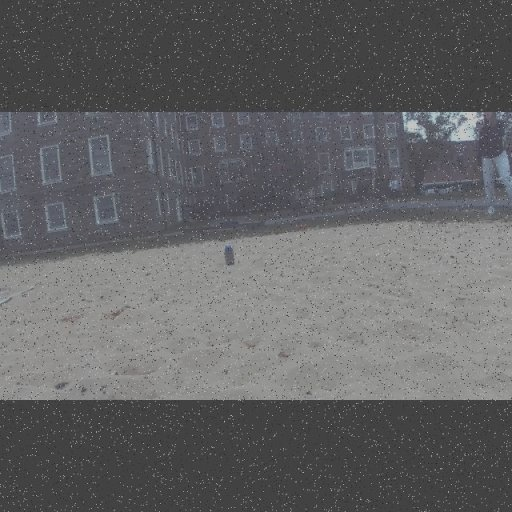bottle: (225, 246, 234, 266)
